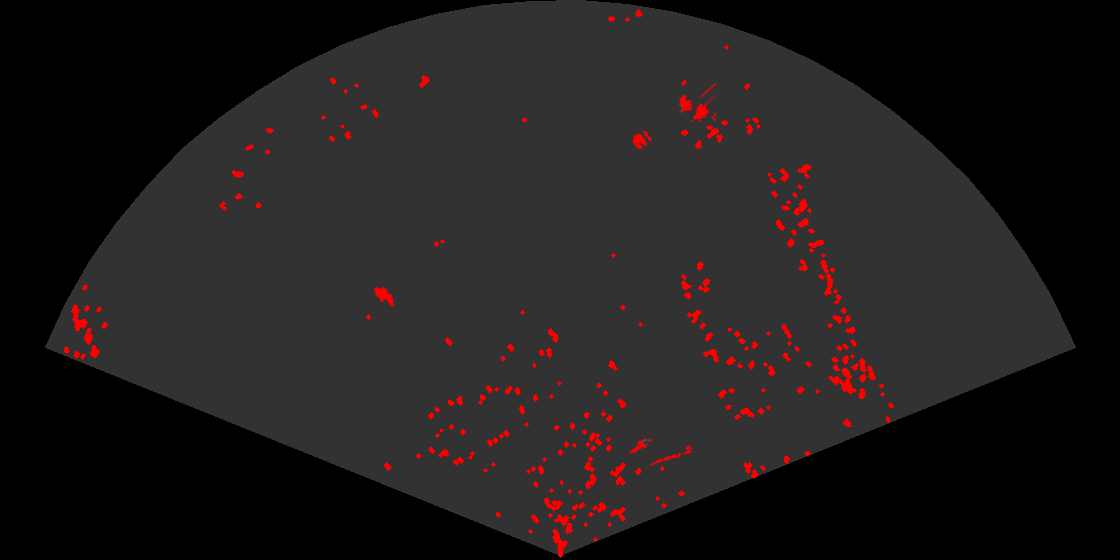AUV: (372, 285, 396, 309)
ball: (631, 129, 654, 151)
cage: (677, 83, 716, 124)
chain: (647, 448, 693, 468)
frogman: (627, 436, 652, 455)
